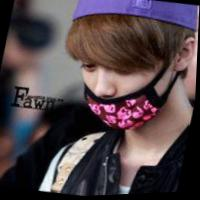WRONG: (74, 39, 174, 139)
